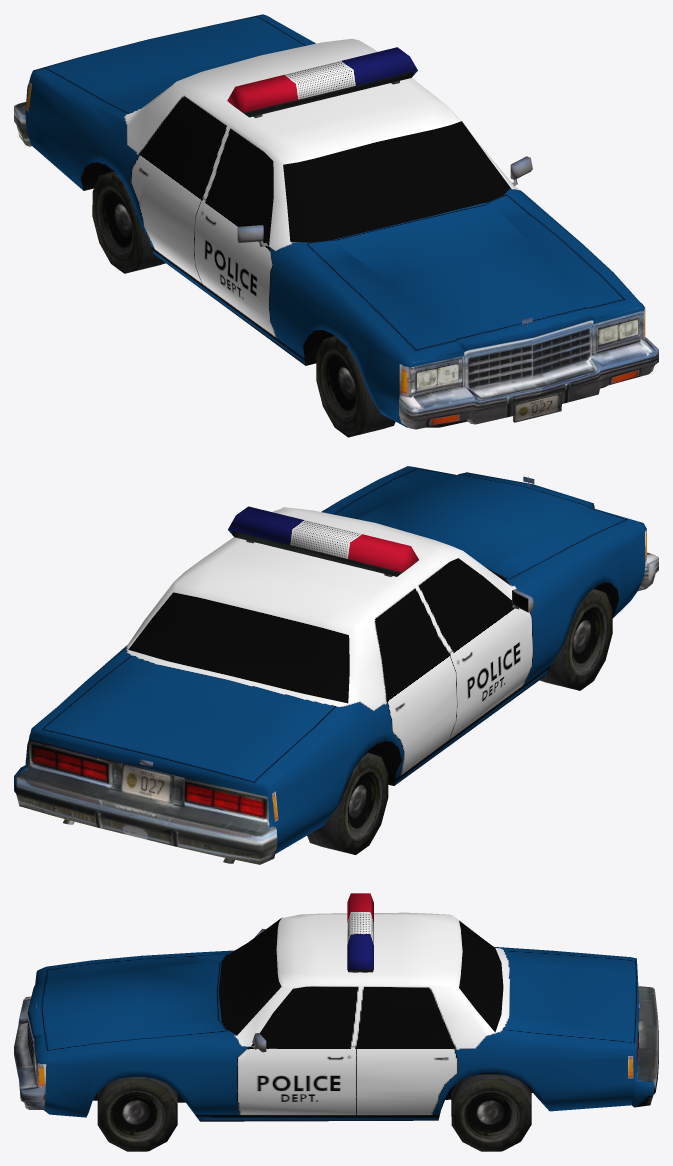
File: Police_car.fbx
3 views of the same model, one above another, from view 1: azimuth 30°, elevation 25°; view 2: azimuth 150°, elevation 25°; view 3: azimuth 270°, elevation 25° (orthographic). The views are drawn at different scales.
Visible parts, largest first — view 1: Low_poly_version_Convert_Material #25_0; view 2: Low_poly_version_Convert_Material #25_0; view 3: Low_poly_version_Convert_Material #25_0.
Boxes of the visible parts, x1,y1,x2,y2 form: Low_poly_version_Convert_Material #25_0: [14, 14, 658, 437]; Low_poly_version_Convert_Material #25_0: [14, 466, 658, 864]; Low_poly_version_Convert_Material #25_0: [14, 893, 658, 1151].
Size of the model in its own units: 966 by 721 by 2334.
